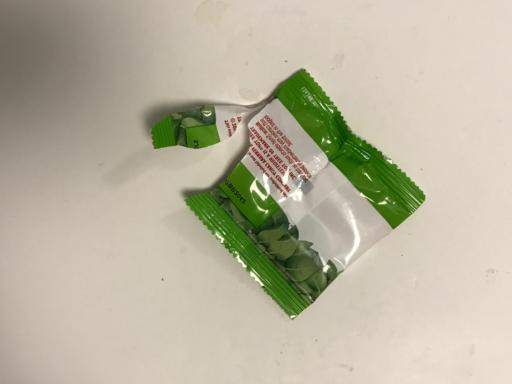trash: (150, 68, 426, 320)
